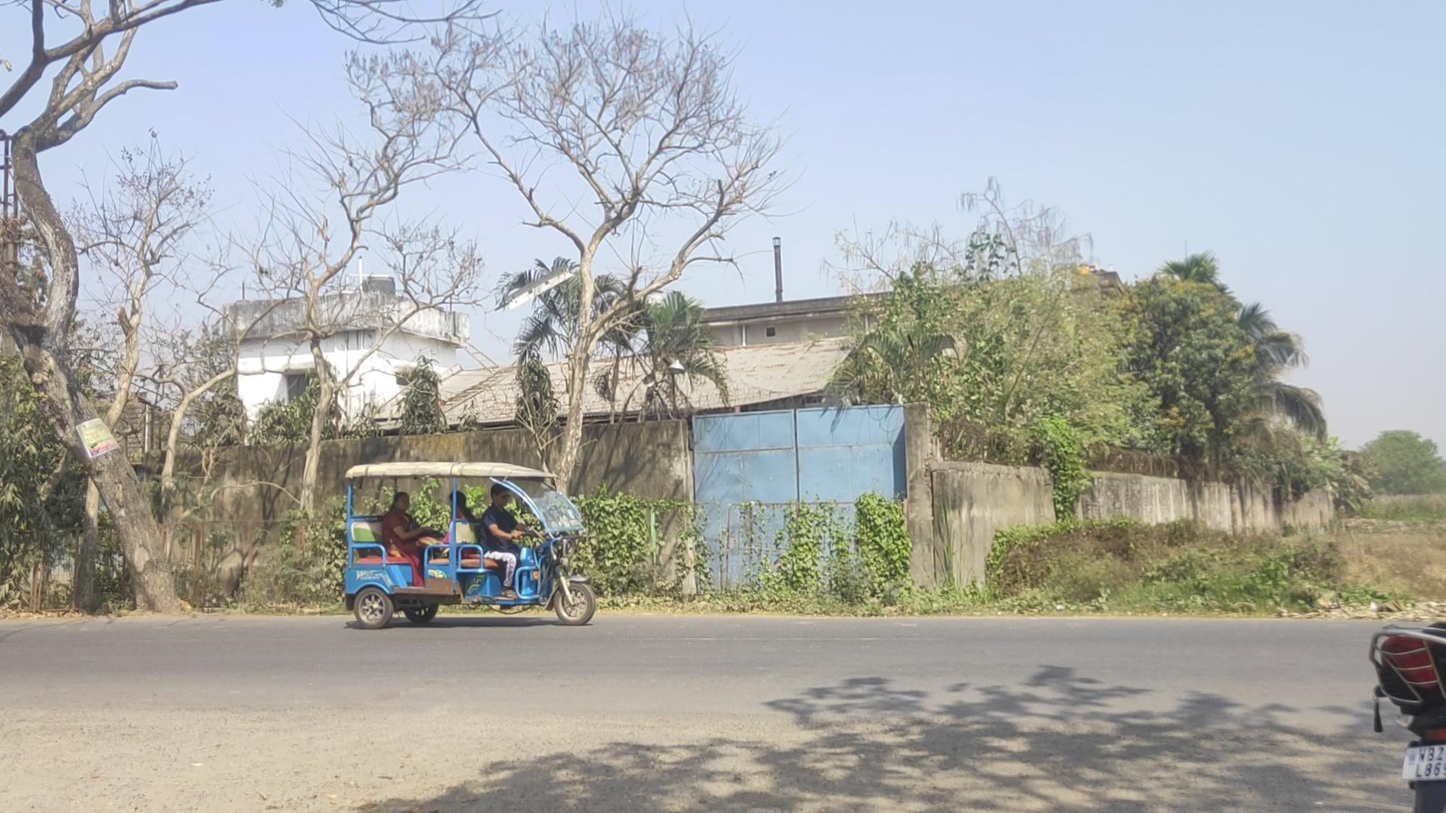Auto: (344, 461, 596, 629)
